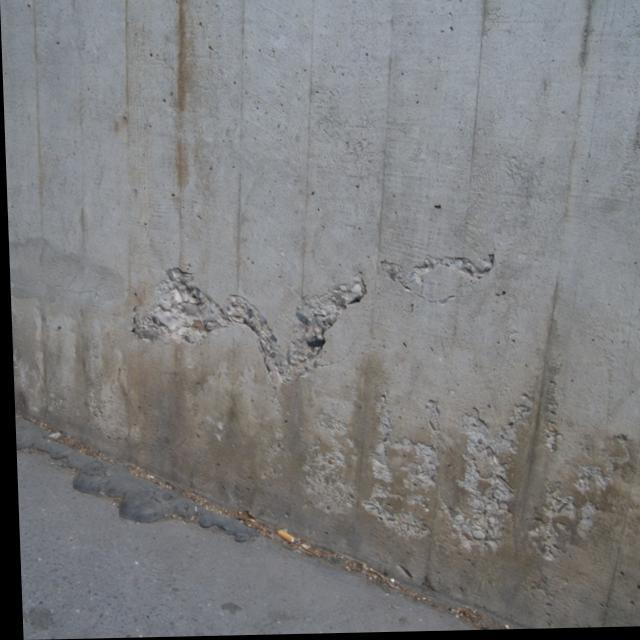D10: (130, 266, 369, 380)
